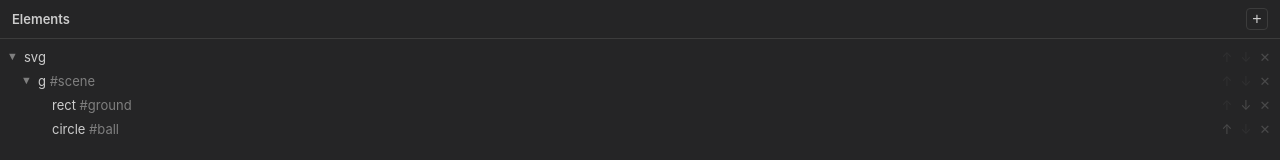
Test case: ElementsPanel › collapses and expands a subtree
Click the button named "Collapse" at (28, 81), box [20, 73, 36, 89]
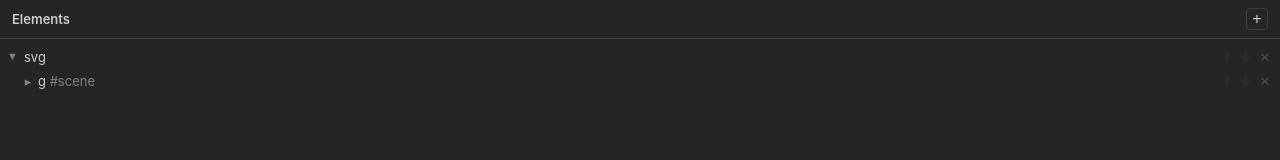
Check: the text "#ball" is gone
Click the button named "Expand" at (28, 81), box [20, 73, 36, 89]
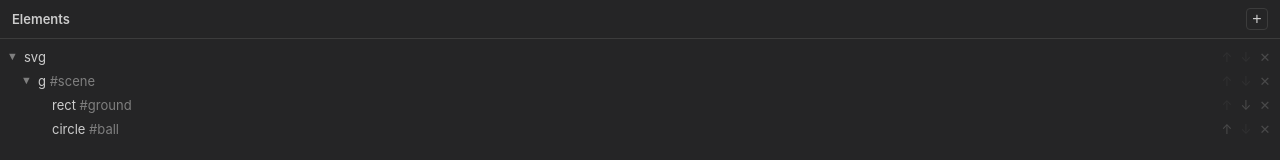
Check: the text "#ball" is shown, box [85, 121, 119, 137]
